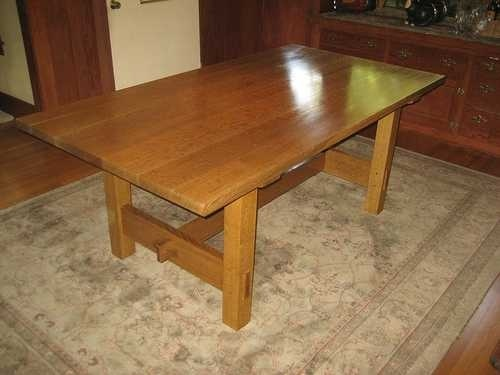obstacle: (17, 46, 443, 328)
